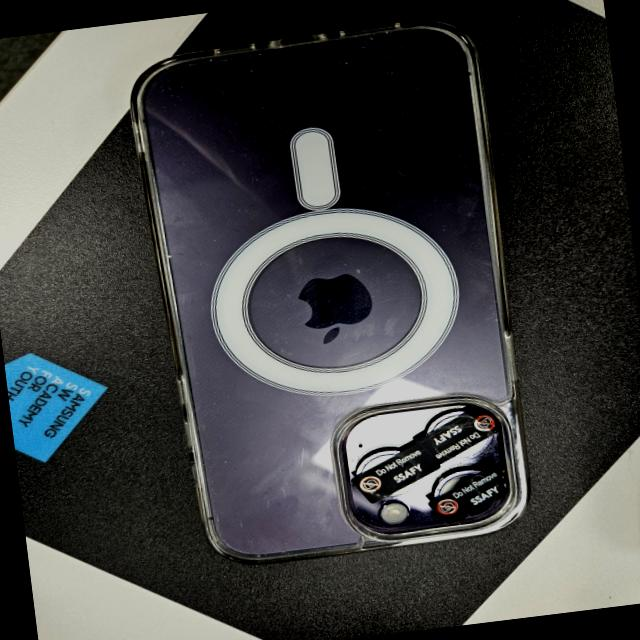phone: (125, 15, 535, 572)
sticker: (344, 437, 442, 503), (422, 463, 513, 523), (412, 406, 498, 464)
